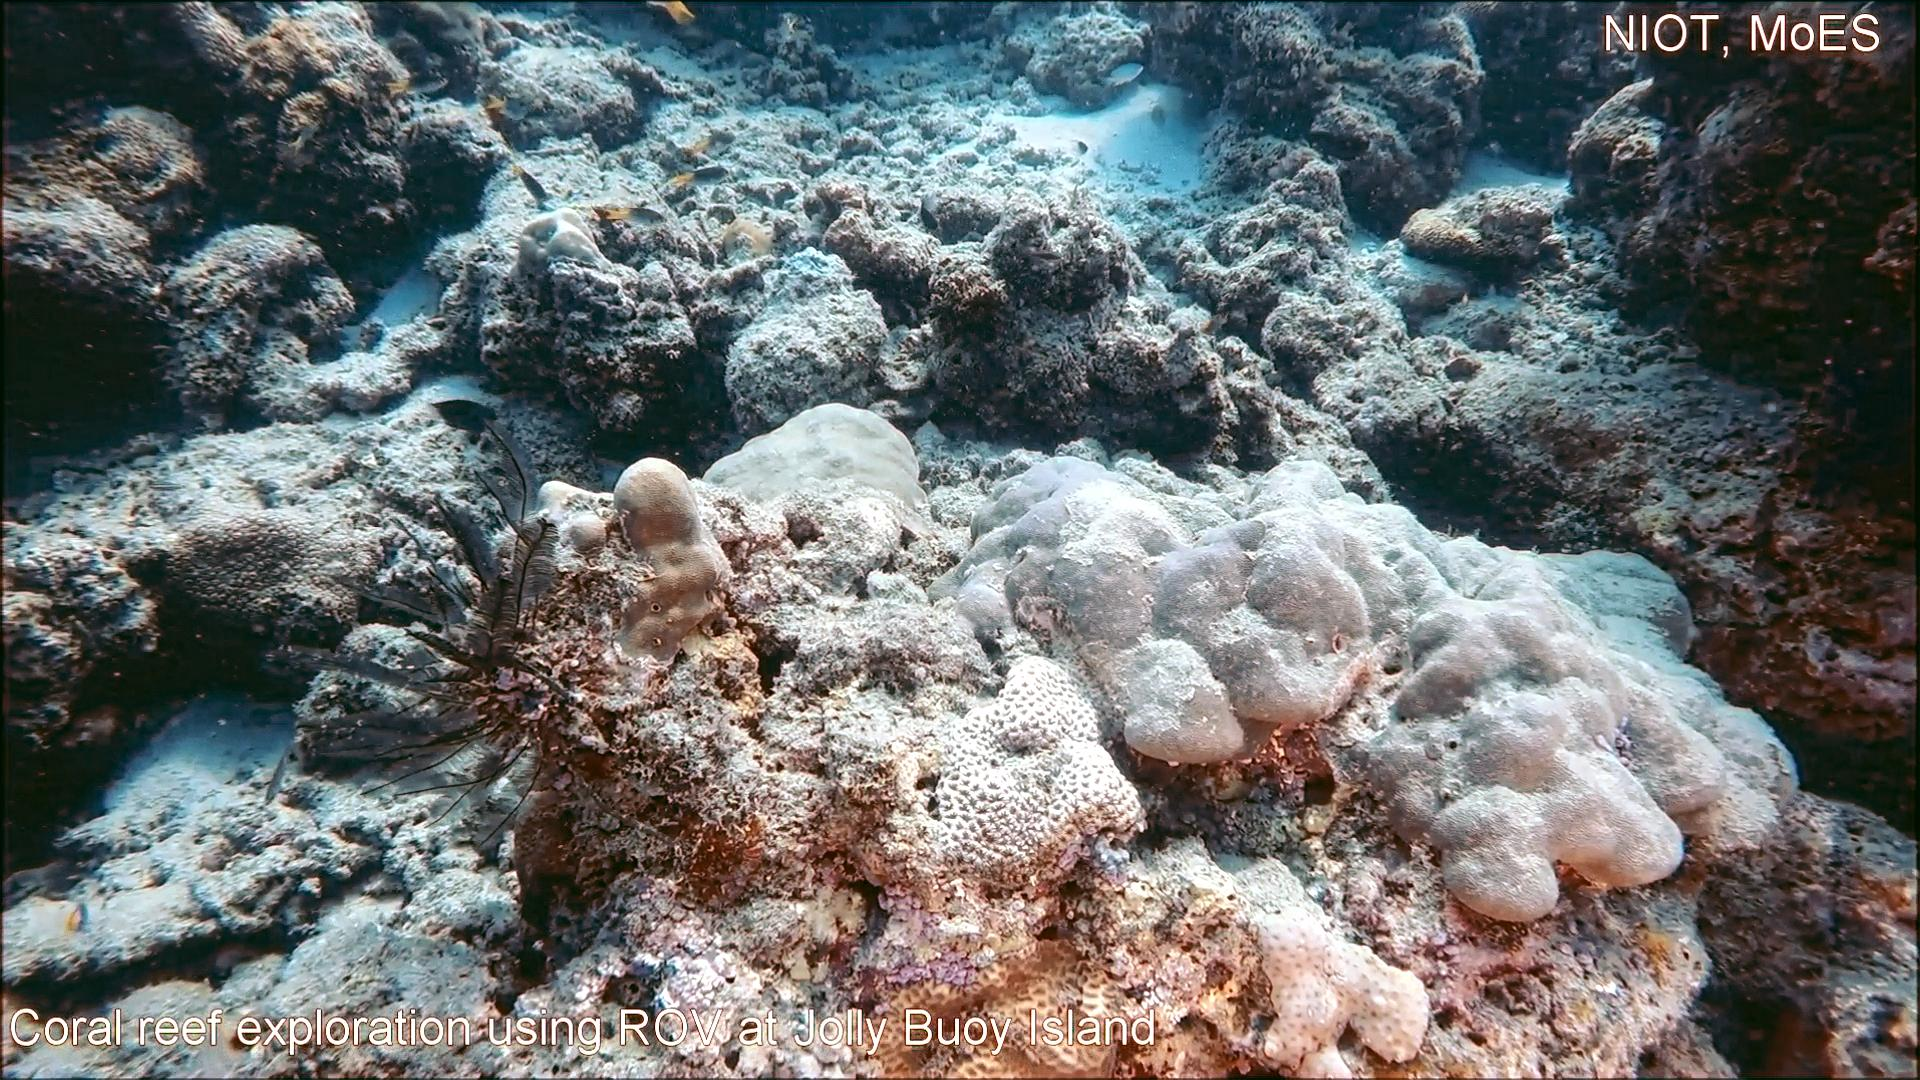Feather star-Crinoid star: (264, 414, 597, 866)
Goniastrea-Goniastrea pectinata: (930, 645, 1149, 911)
Porites-Porites pukoensis: (1244, 455, 1809, 935)
Turbinaria-Turbinaria stellulata: (152, 510, 385, 640)
